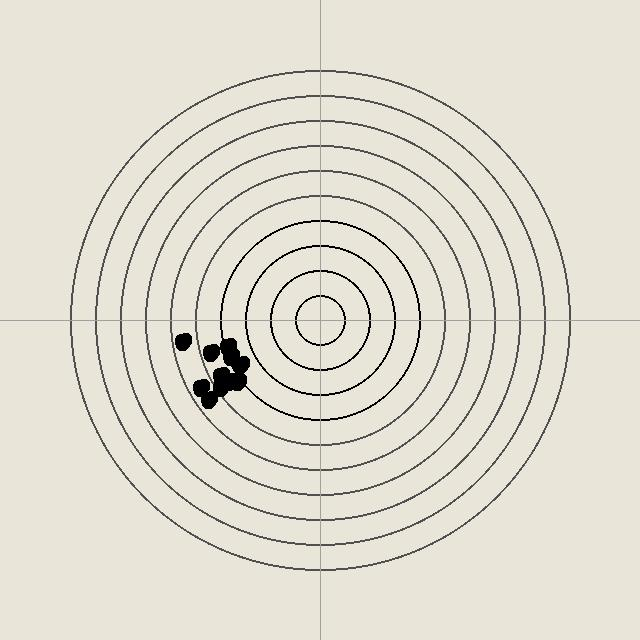good_group: (190, 377, 210, 397), (198, 389, 218, 409), (210, 365, 230, 385), (210, 377, 230, 397), (172, 331, 192, 351), (218, 371, 238, 391), (230, 354, 250, 374), (220, 346, 240, 366), (227, 371, 247, 391), (217, 336, 237, 356), (200, 342, 220, 362)
